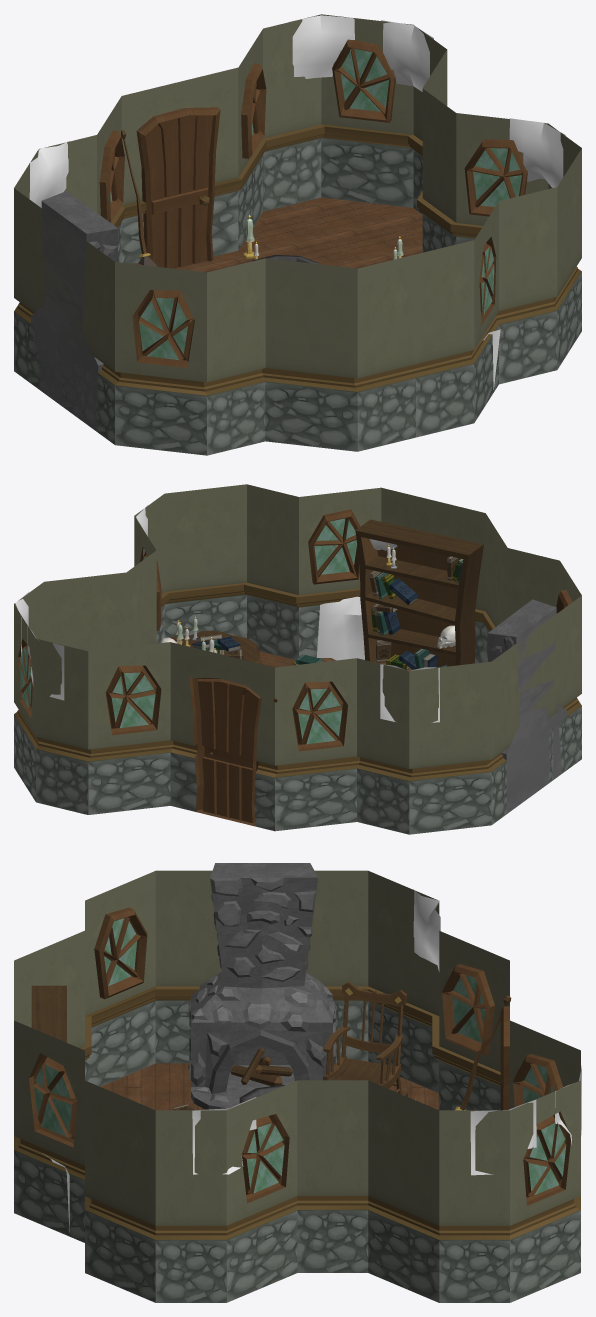
Rendered from spell-scene.fbx.
The picture shows the model from 3 angles, top to bottom: view 1: azimuth 30°, elevation 25°; view 2: azimuth 150°, elevation 25°; view 3: azimuth 270°, elevation 25°; orthographic projection. The views are drawn at different scales.
Parts seen in each view (by area): view 1: Walls, Environment_Scene; view 2: Walls, Environment_Scene, Self, Table; view 3: Walls, Environment_Scene, Chair, Self.
Boxes of the visible parts, <box> form: Walls: <box>14,14,581,455</box>; Environment_Scene: <box>29,15,565,432</box>; Walls: <box>14,484,581,834</box>; Environment_Scene: <box>15,505,566,830</box>; Self: <box>355,519,483,670</box>; Table: <box>159,616,262,664</box>; Walls: <box>14,870,580,1302</box>; Environment_Scene: <box>44,863,581,1232</box>; Chair: <box>323,981,407,1096</box>; Self: <box>31,985,66,1042</box>.
Size of the model in its own units: 803 by 319 by 802.
